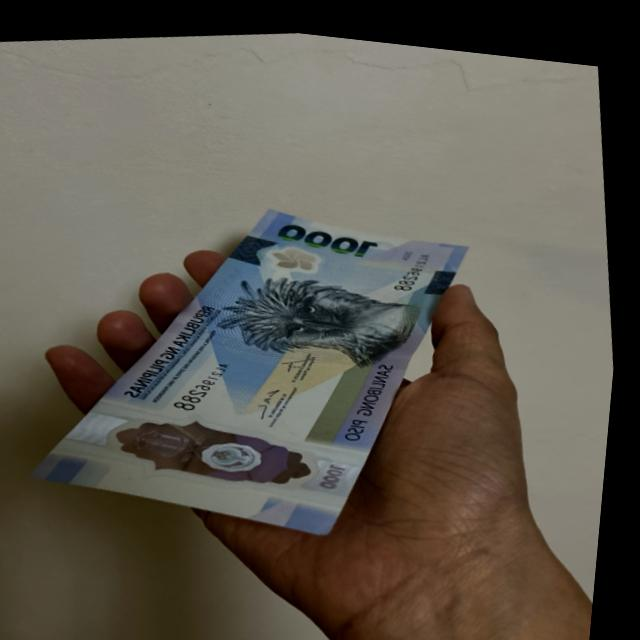clear_window: (87, 382, 349, 512)
eagle: (228, 251, 425, 383)
sampaguita: (258, 231, 325, 270)
serial_number: (173, 346, 255, 426), (391, 230, 446, 290)
